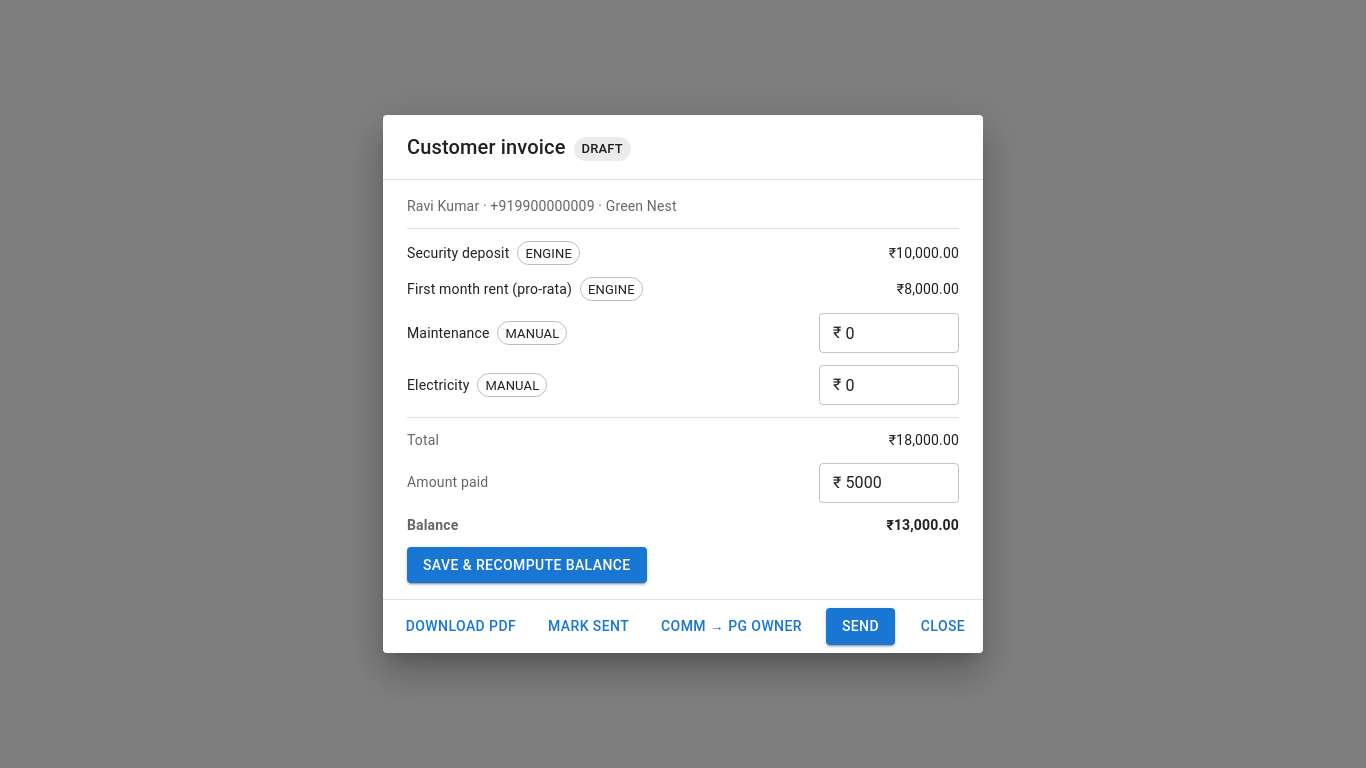
Test case: Invoice Center › an engine line renders NO input; editing a manual line recomputes the balance server-side
Expected: the text "Security deposit" is shown, [407,244,509,264]
Note: Edit maintenance to ₹2,000 and save → server returns the recomputed balance.
Replace the text in the number field named "Maintenance amount" with "2000" at (902, 334), box [845,314,959,354]
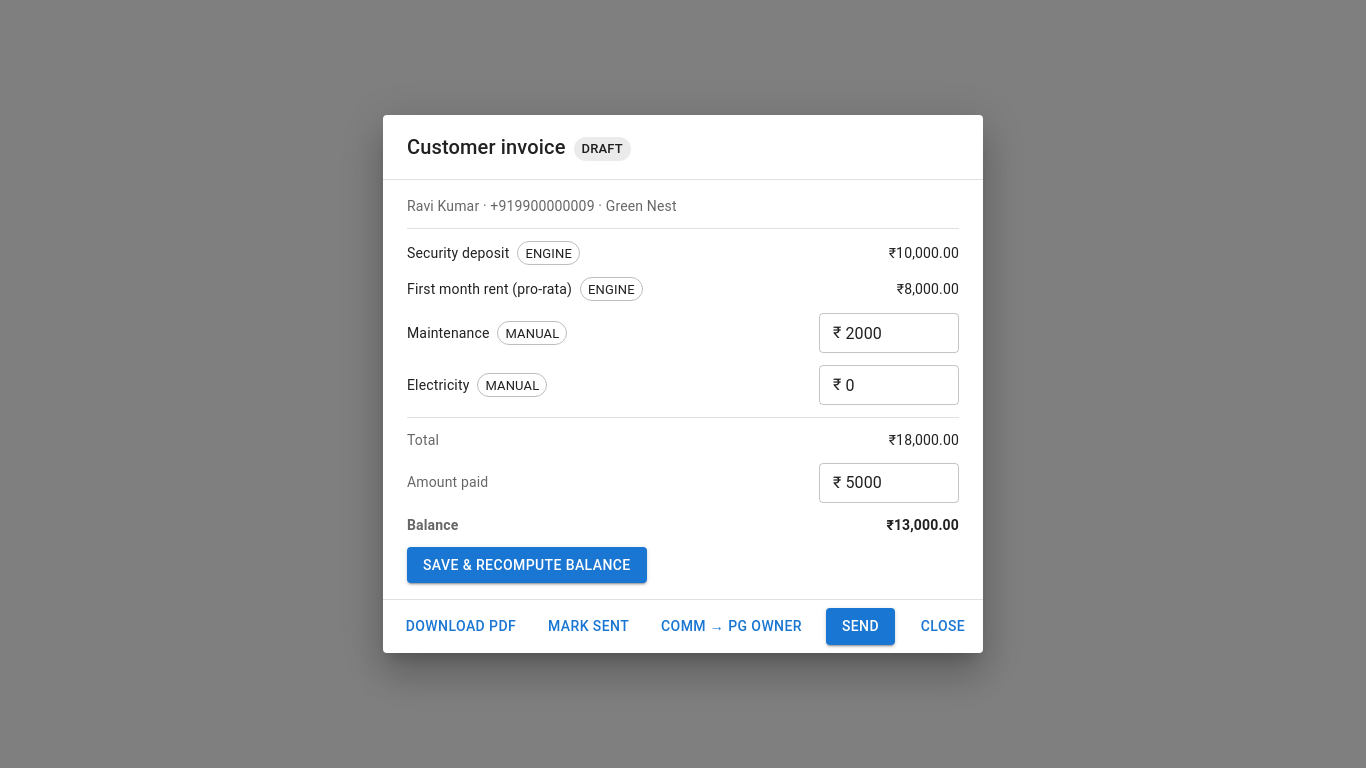
Click the button "Save & recompute balance" at (527, 565), box [407,546,647,583]
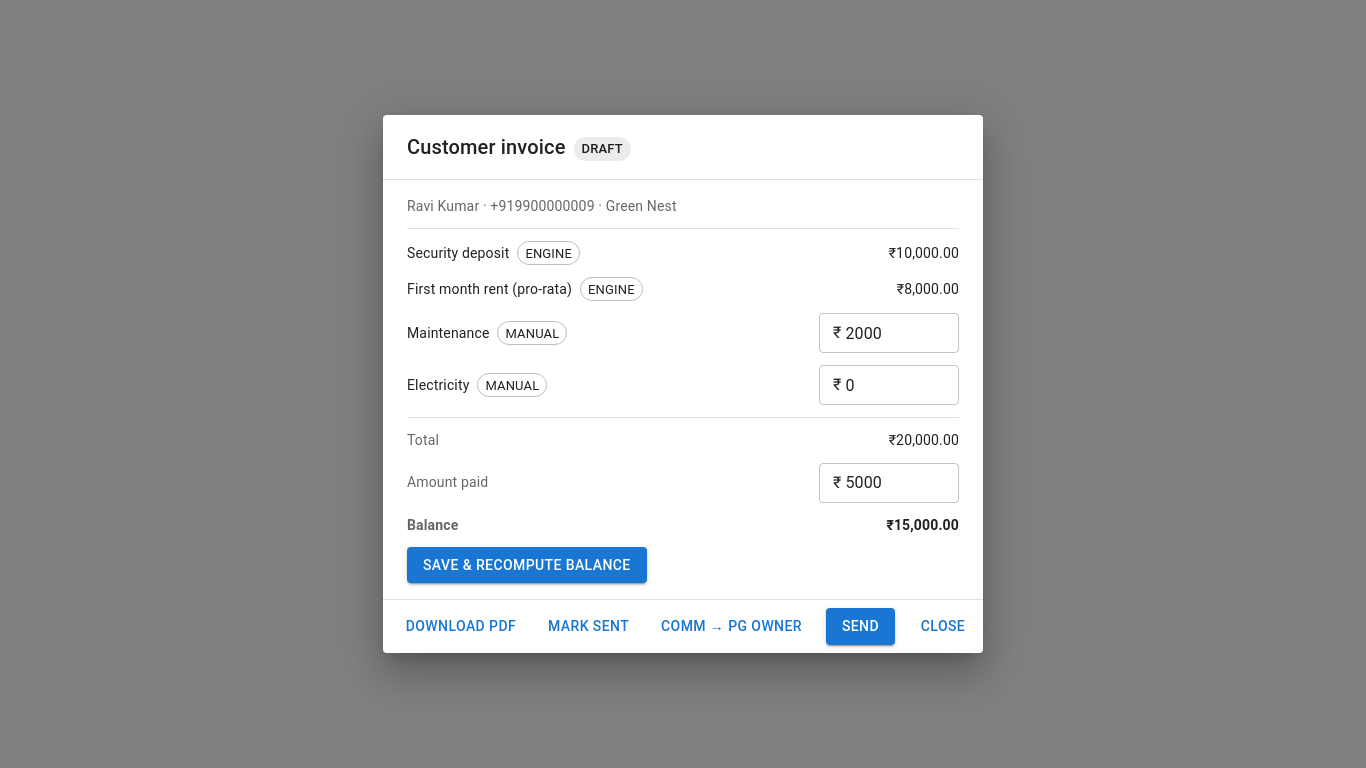
Expected: the text "₹15,000.00" is shown, [886,514,959,534]
